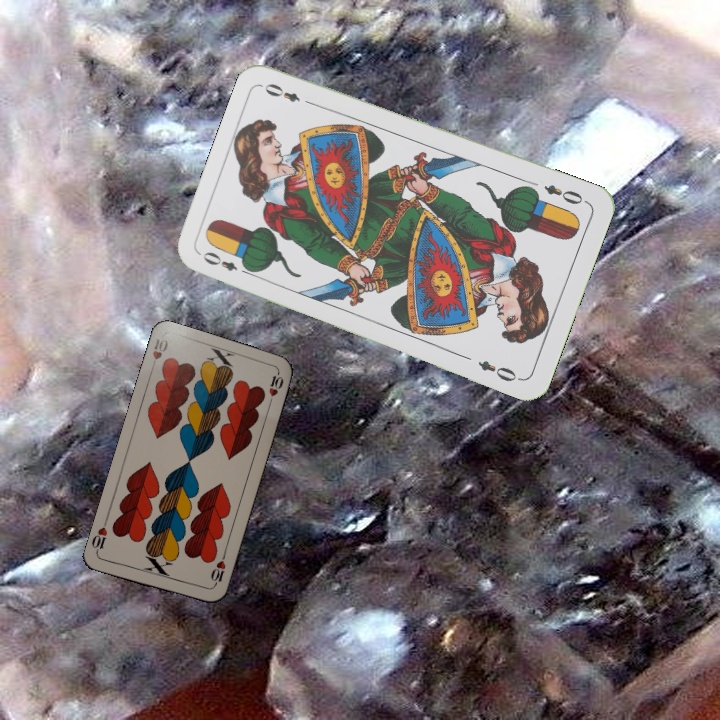EO: (198, 247, 255, 278), (540, 180, 590, 207)
H10: (146, 335, 171, 374), (206, 550, 228, 590)
